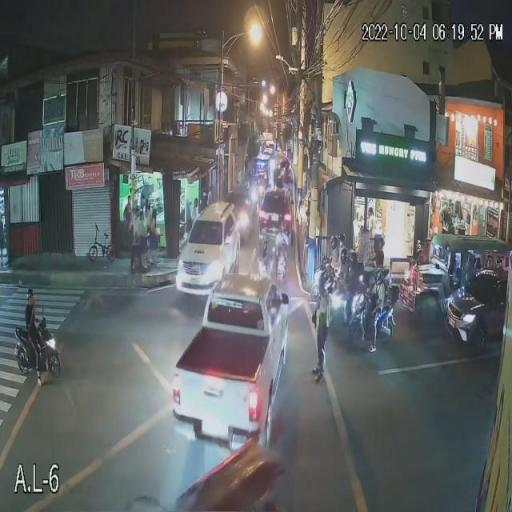helmet: (27, 291, 35, 308), (375, 271, 384, 286), (349, 251, 358, 264), (340, 250, 348, 263), (330, 236, 336, 250), (339, 234, 346, 246)
motorcycle: (13, 320, 62, 380), (344, 298, 397, 348)
rider: (25, 290, 41, 382), (372, 271, 388, 350), (350, 248, 359, 302), (340, 250, 349, 300), (338, 231, 347, 262), (329, 236, 337, 270)
